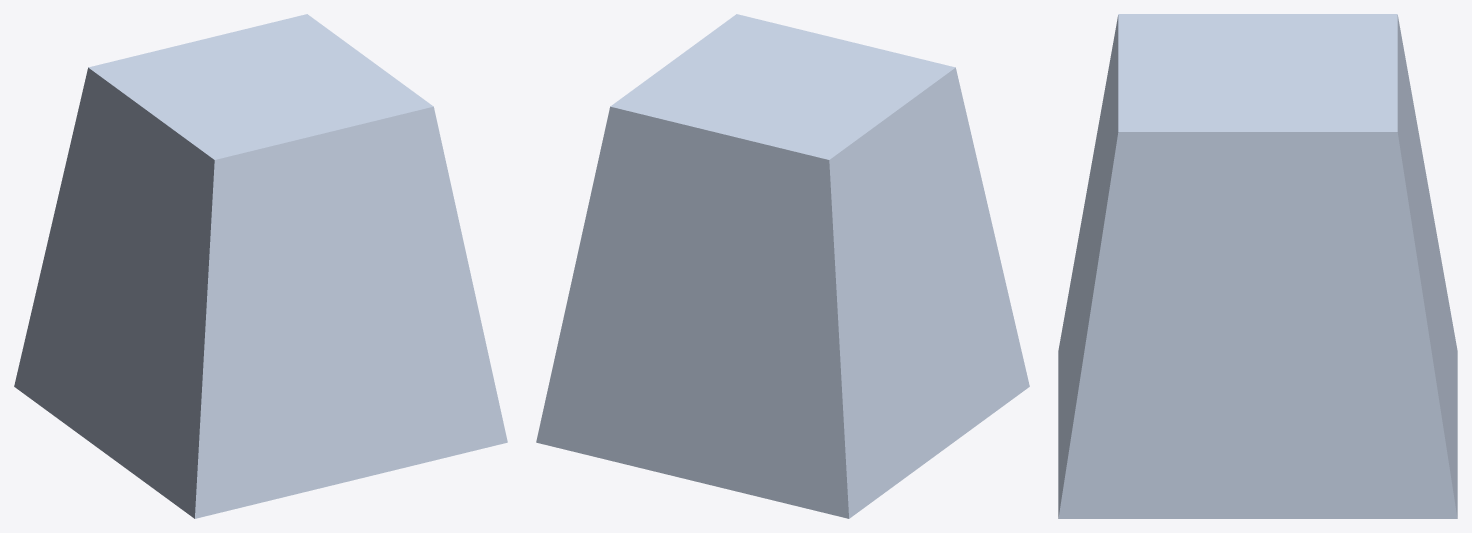
File: example_test_tube.dae
The picture shows the model from 3 angles, left to right: view 1: azimuth 30°, elevation 25°; view 2: azimuth 150°, elevation 25°; view 3: azimuth 270°, elevation 25°; orthographic projection. The views are drawn at different scales.
Visible parts, largest first — view 1: tube-node; view 2: tube-node; view 3: tube-node.
Boxes of the visible parts, box(x1,y1,x2,y2) form: tube-node: box(14, 14, 507, 518); tube-node: box(536, 14, 1029, 518); tube-node: box(1058, 14, 1457, 518).
Size of the model in its own units: 1 by 1 by 1.
